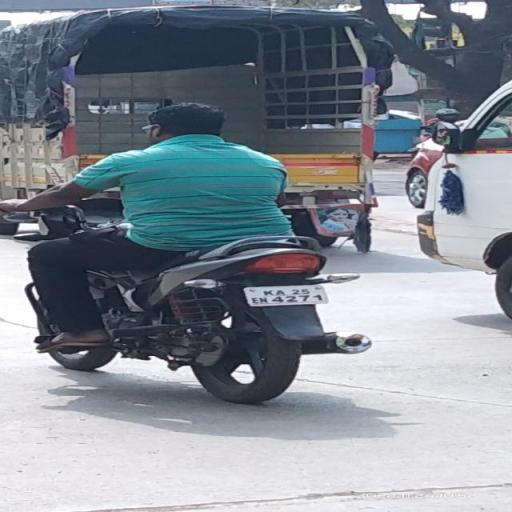bike: (9, 100, 377, 406)
numberplate: (246, 282, 328, 308)
withouthelmet: (152, 103, 220, 138)
